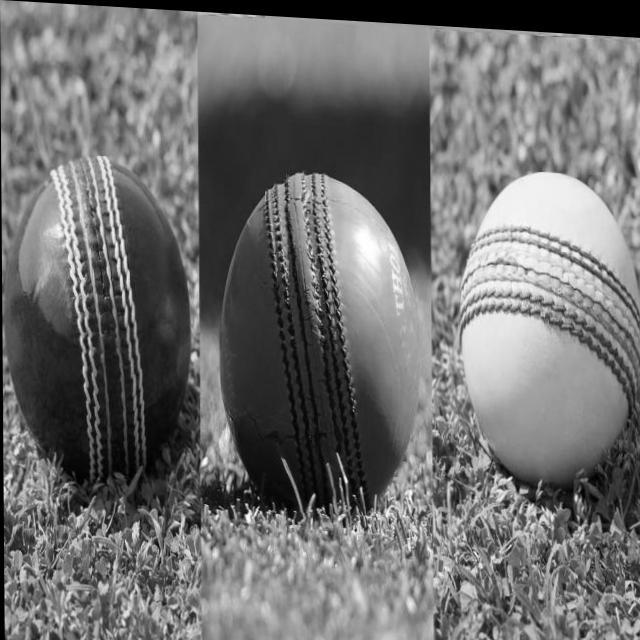cricket ball: (219, 168, 421, 509), (4, 154, 190, 480), (459, 166, 640, 478)
